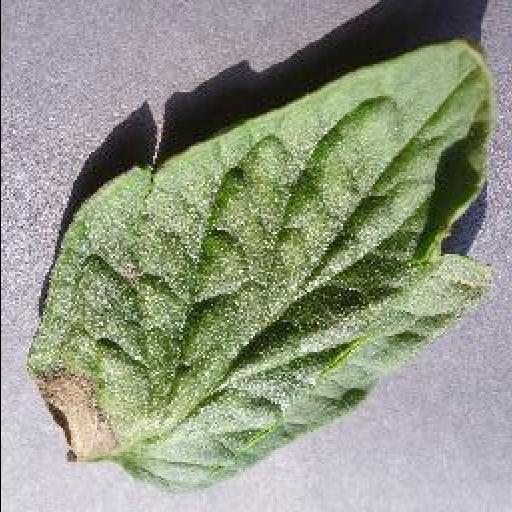disease_tomato: (21, 40, 495, 500)
